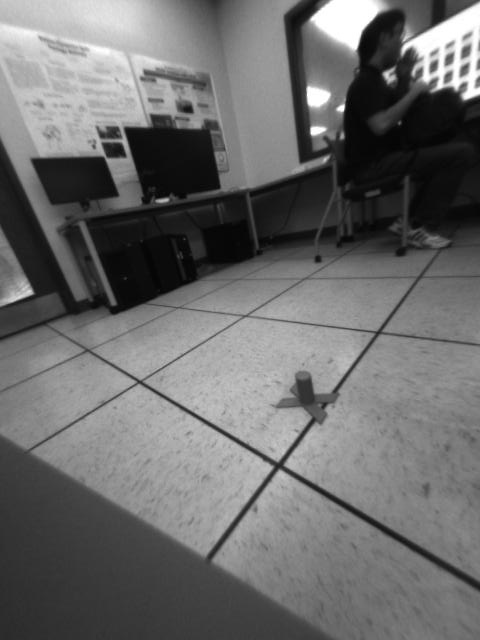X: (273, 368, 338, 426)
